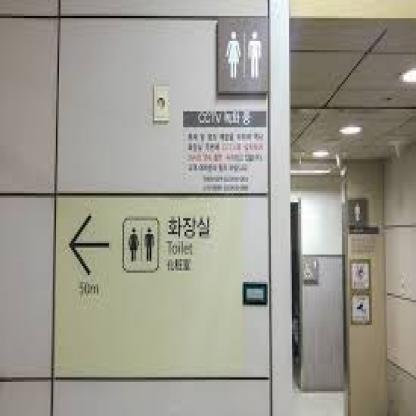toilet: (222, 22, 264, 81), (127, 222, 157, 266)
